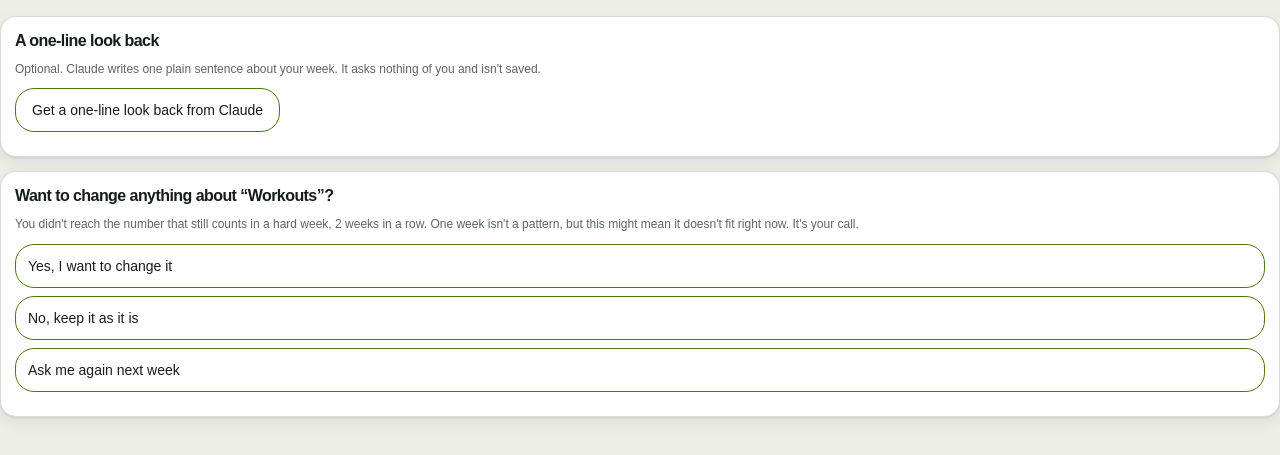
Test: layer 2: Claude's one-line look back › says why when a limit stopped it, keeps the review going and keeps the button
This screenshot has width=1280, height=455.
Click the button "Get a one-line look back from Claude" at (148, 110), box left=15, top=88, right=280, bottom=132
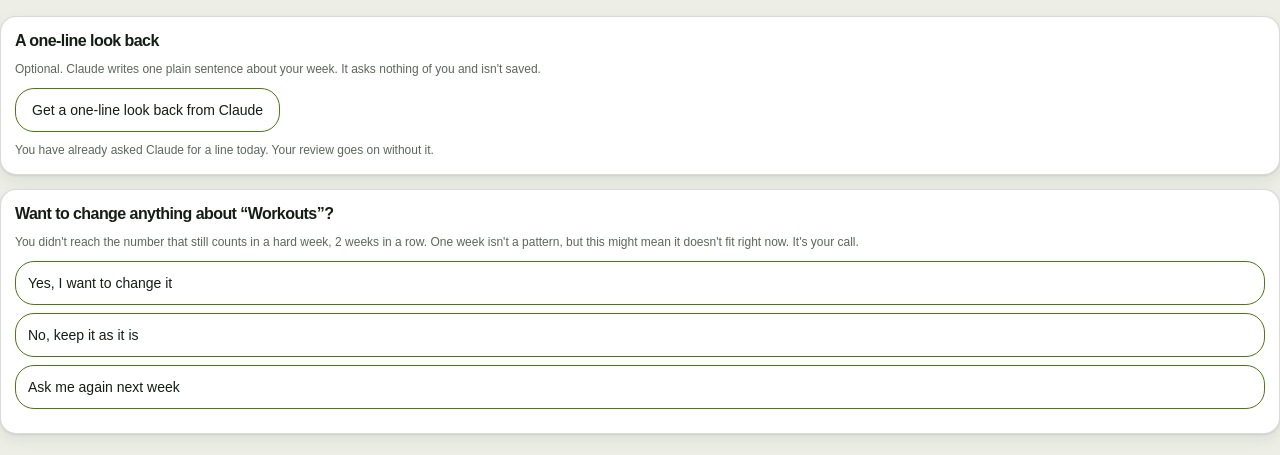
expect the element named "One thing to decide" is shown: met, box left=0, top=189, right=1279, bottom=434
expect the text "You have already asked Claude for a line today. Your review goes on without it." is shown: met, box left=15, top=143, right=434, bottom=157
